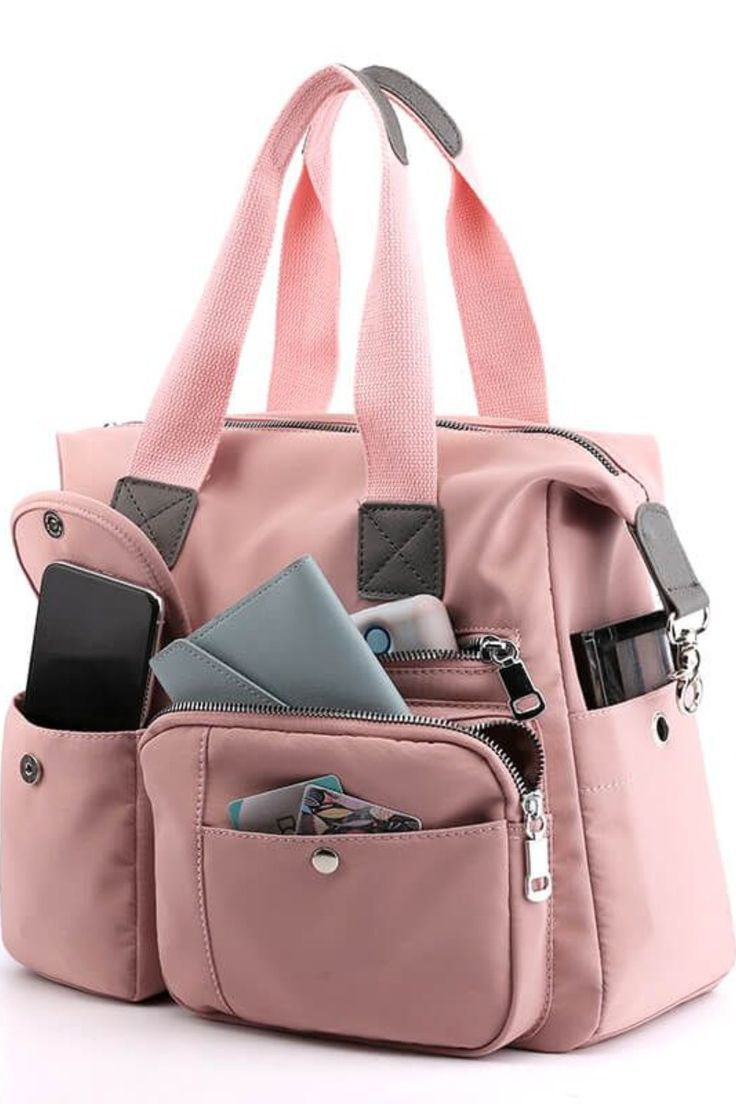nylon: (10, 400, 736, 1059)
